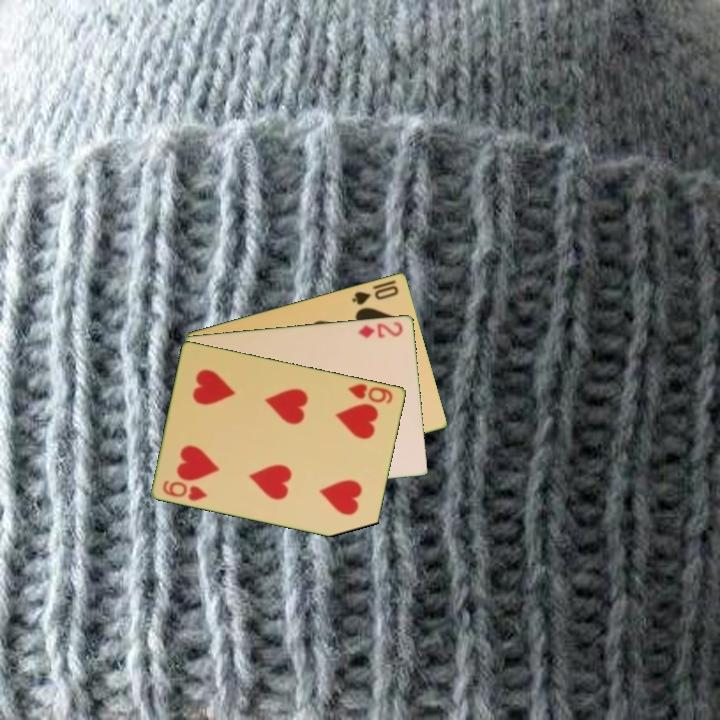10s: (349, 281, 402, 307)
2d: (355, 318, 406, 341)
6h: (159, 477, 211, 504), (345, 380, 396, 406)
